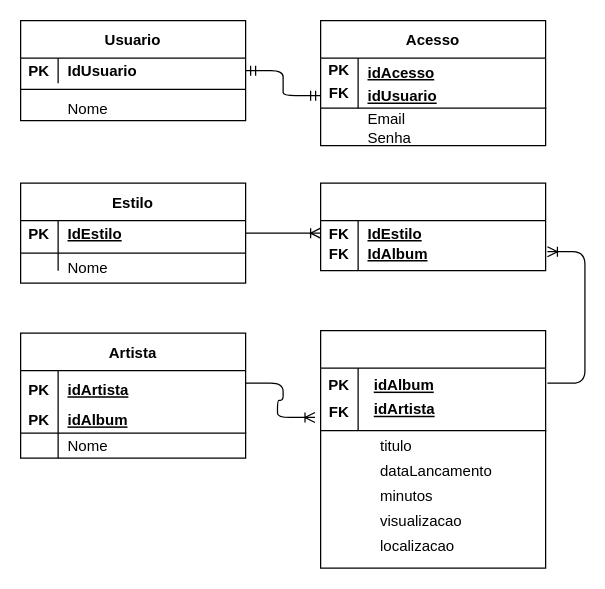
This 605x589 diagram has some shape labels left out. The shapes that lost their labels are listed below. From the top down, each one's box as (x1, y1, x2, y2) in pixels, then its label:
(319, 182, 546, 271): Estilo/Albuns
(319, 329, 546, 568): Album
